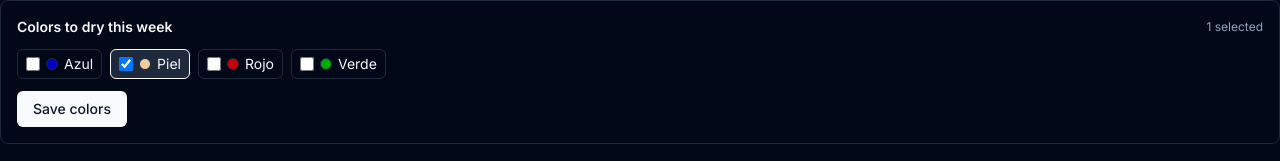
ColorPicker (R3 — persists via setWeekColors) › toggles a color and submits the selected set to the action
The image size is (1280, 161).
# Add Verde, then save.
Click the checkbox labelled "Verde" at (307,64), box [300,57,314,71]
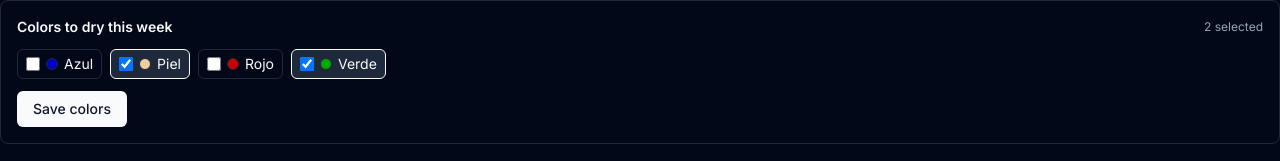
Click the button "Save colors" at (72,109), box [17,91,127,127]
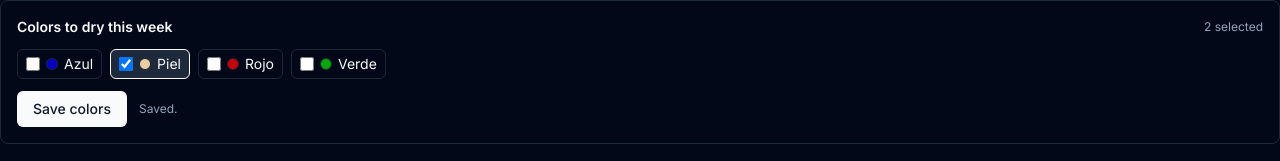
Check: the text "Saved." is shown, box [139,101,178,117]
